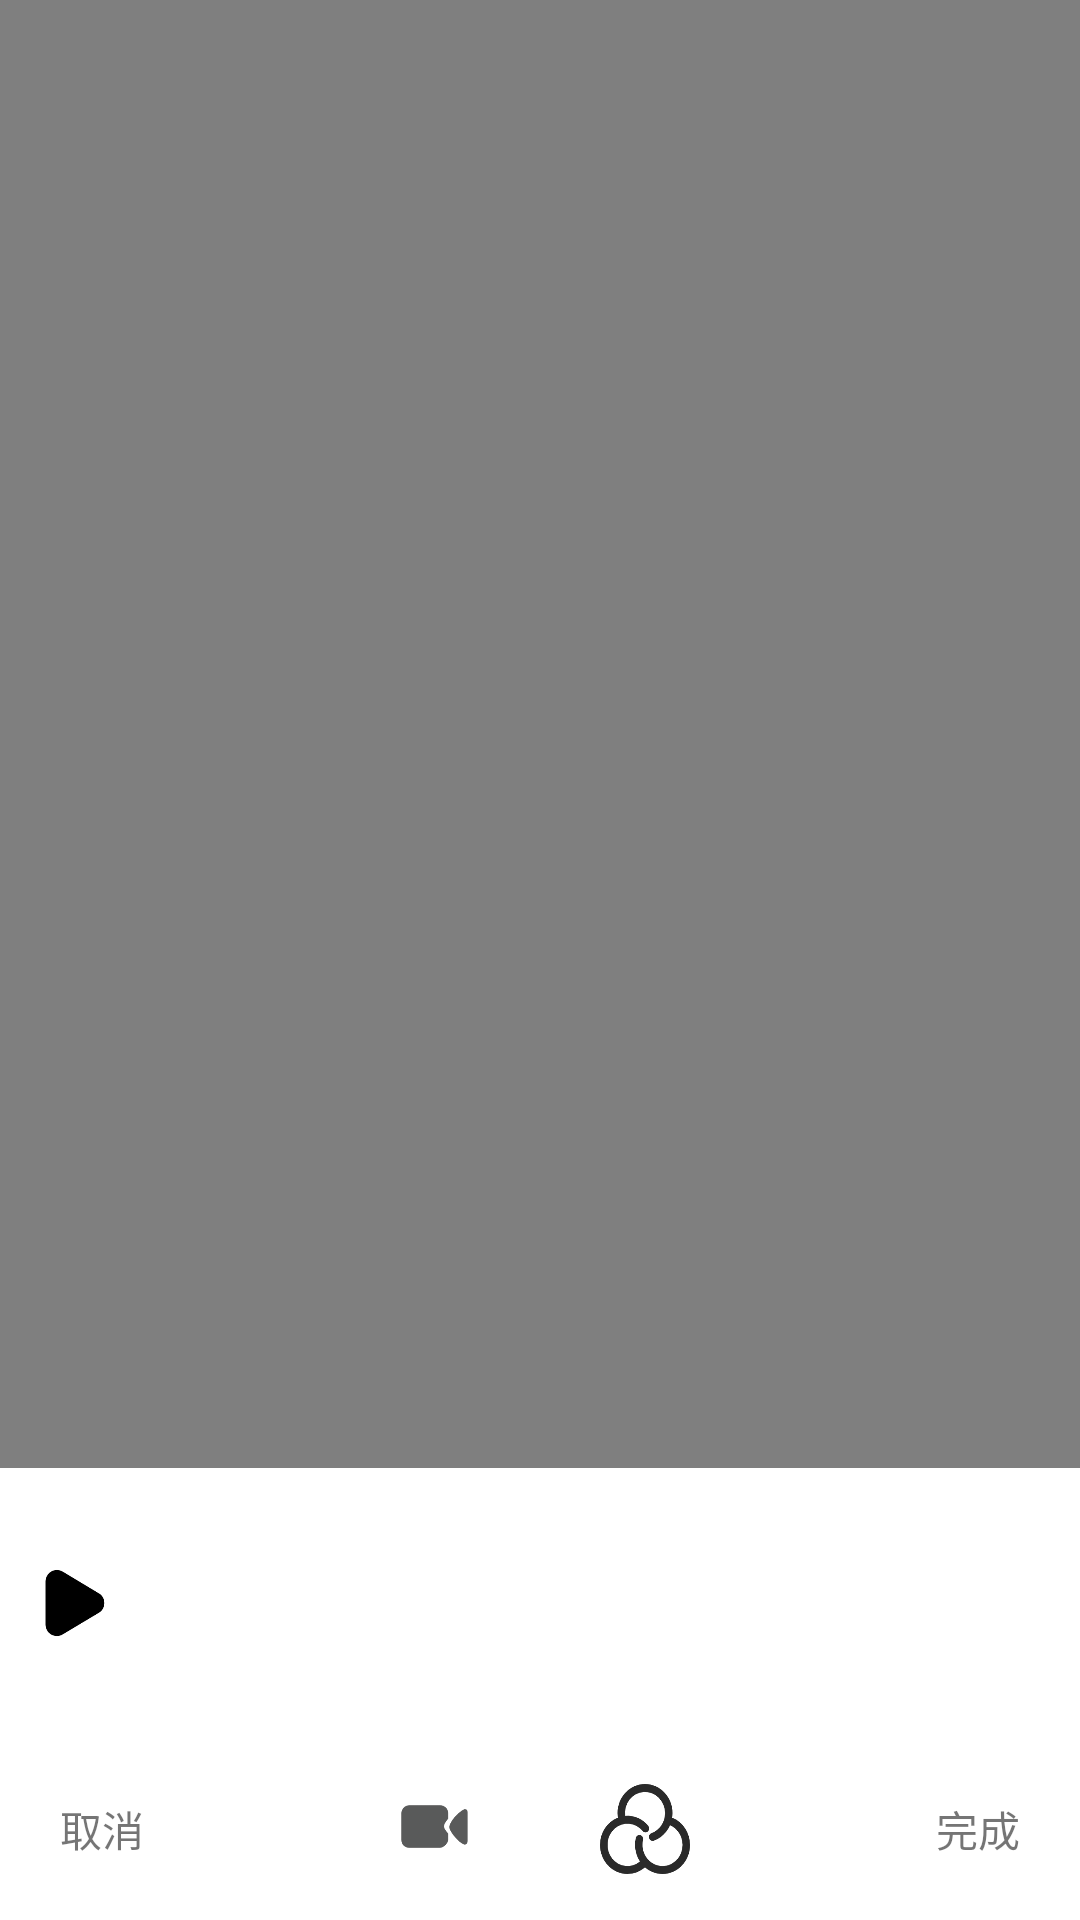

Screen size 1080 × 1920. Icon name, then its center in pixels as point (x, y):
filter: point (645, 1829)
play: point (75, 1603)
video: point (434, 1826)
